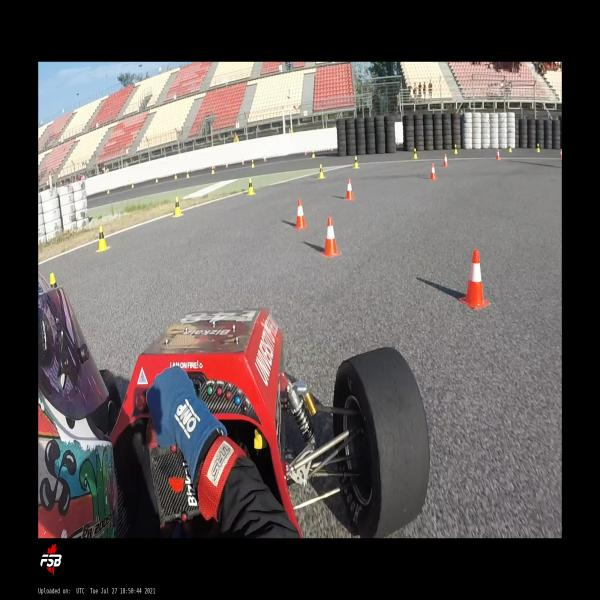orange_cone: (459, 248, 490, 310), (320, 216, 341, 258), (292, 199, 308, 230), (344, 178, 356, 201), (429, 162, 437, 179), (443, 153, 448, 167), (496, 149, 500, 160), (560, 147, 562, 159), (305, 148, 308, 156), (330, 144, 333, 152), (225, 161, 228, 168), (264, 154, 266, 162), (242, 157, 244, 165), (397, 138, 399, 144)
yellow_cone: (96, 225, 110, 252), (173, 195, 183, 218), (246, 178, 255, 196), (317, 163, 326, 180), (50, 272, 58, 288), (353, 156, 359, 169), (412, 148, 418, 160), (454, 144, 458, 154), (536, 143, 540, 153), (251, 158, 255, 168), (211, 164, 215, 174), (186, 169, 190, 178), (508, 144, 512, 152), (312, 150, 315, 159), (174, 172, 178, 178), (155, 176, 158, 183), (290, 126, 293, 133), (132, 180, 134, 188), (107, 187, 109, 194)
